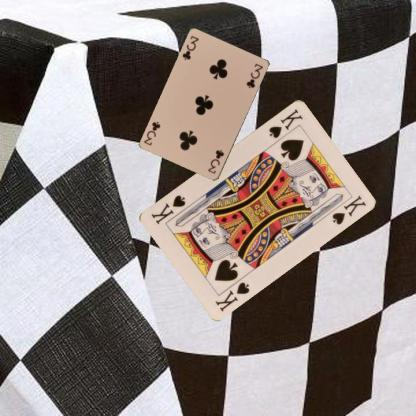3c: (205, 147, 225, 175), (180, 34, 200, 61)
Ks: (213, 278, 251, 312), (266, 106, 304, 139)
